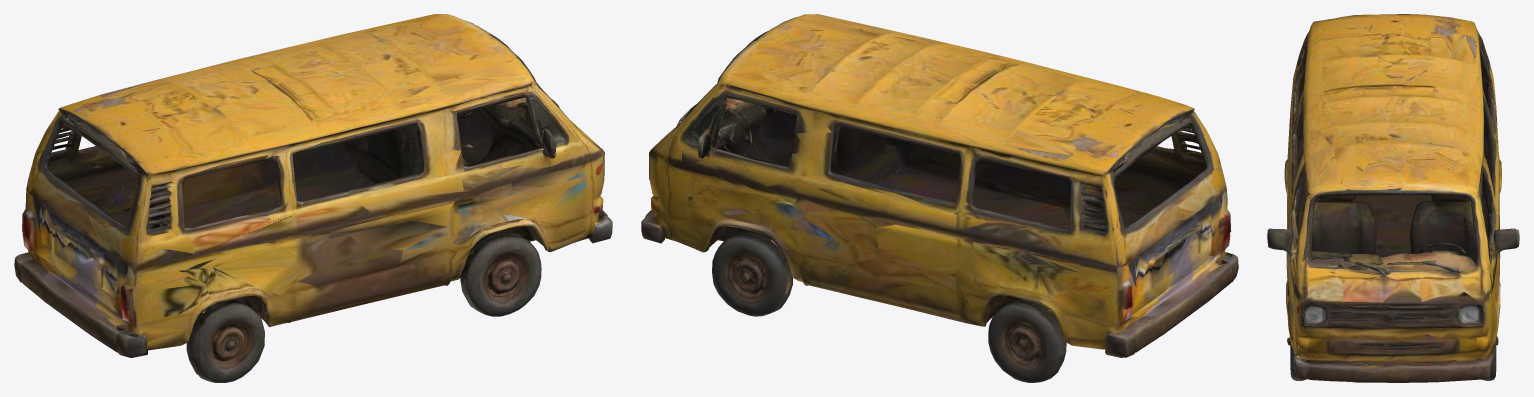
Rendered from danfo.glb.
3 renders of one model, left to right at view 1: azimuth 30°, elevation 25°; view 2: azimuth 150°, elevation 25°; view 3: azimuth 270°, elevation 25°, orthographic. The views are drawn at different scales.
Visible parts, largest first — view 1: danfo; view 2: danfo; view 3: danfo.
Boxes of the visible parts, x1,y1,x2,y2 form: danfo: [14, 14, 612, 382]; danfo: [641, 14, 1238, 382]; danfo: [1267, 14, 1519, 382].
Bounding box in the file's own units: 4.7 × 2.1 × 2.24.
1 material, 1 textured.
